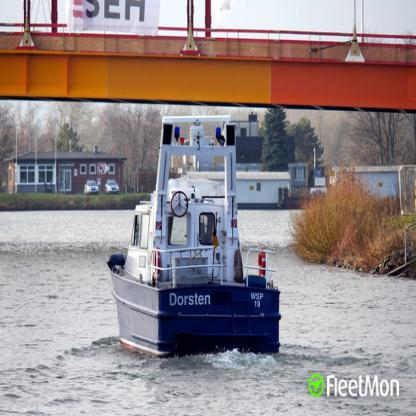Military Ship: (107, 116, 282, 361)
